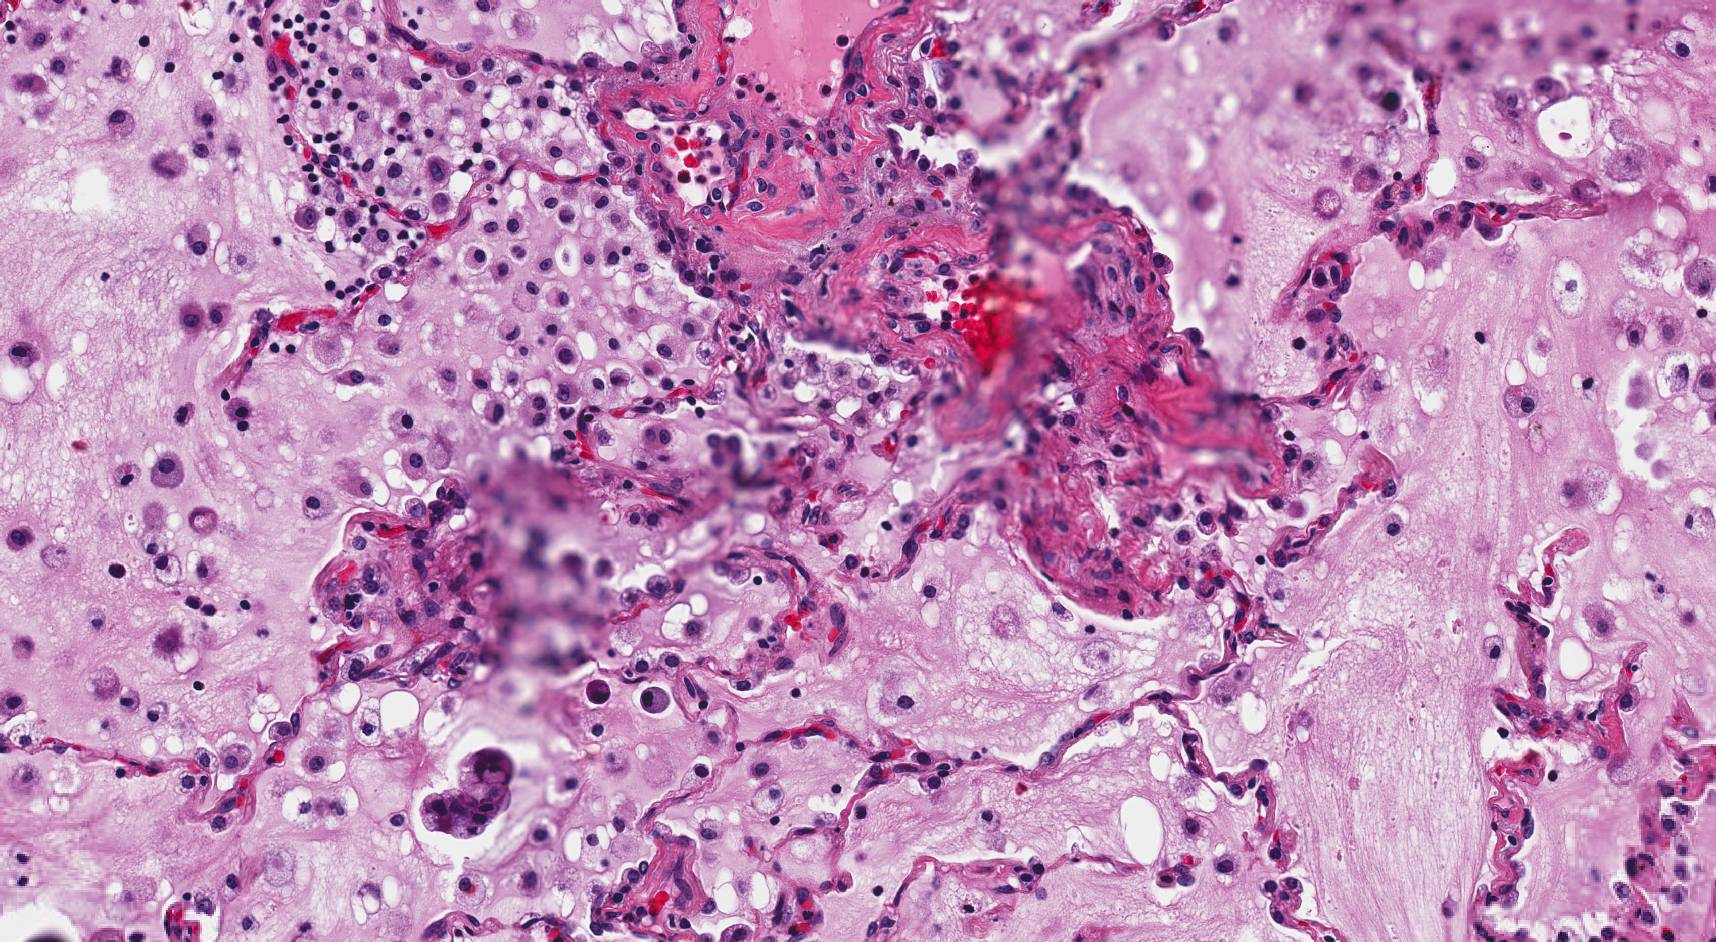stas: (421, 748, 513, 840)
